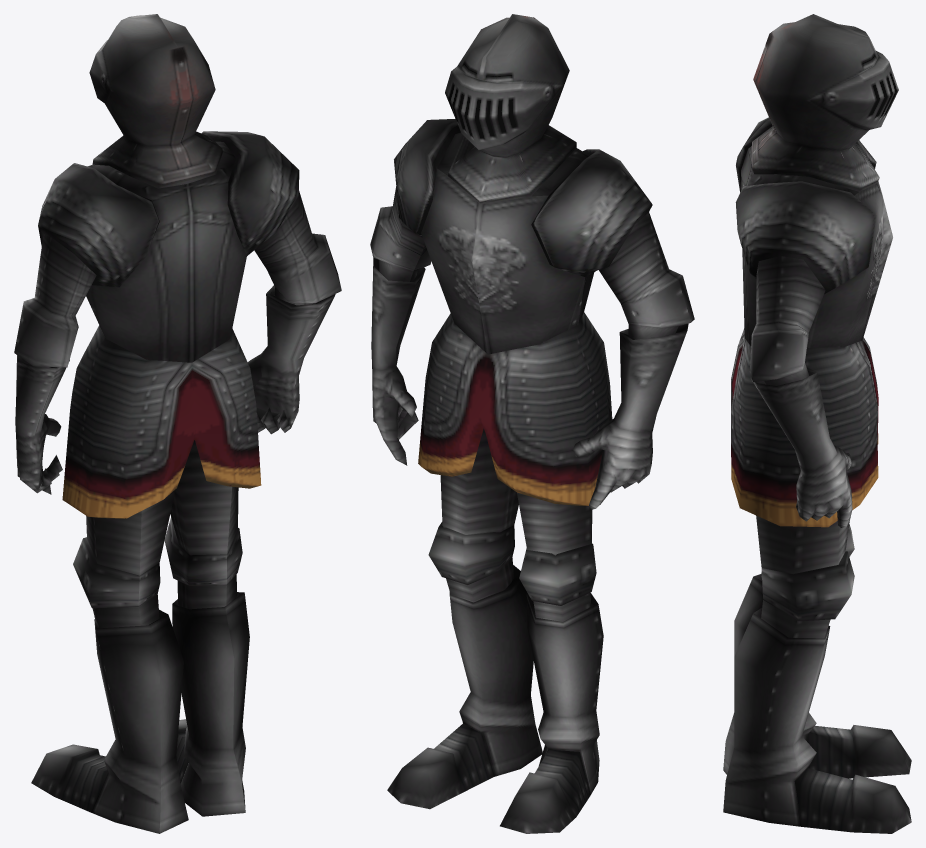
File: SuitOfArmour.obj
3 views of the same model, side by side, from view 1: azimuth 30°, elevation 25°; view 2: azimuth 150°, elevation 25°; view 3: azimuth 270°, elevation 25° (orthographic).
Visible parts, largest first — view 1: material_1, None; view 2: material_1, None; view 3: material_1, None.
Boxes of the visible parts, x1,y1,x2,y2 form: material_1: (14,131,341,833); None: (86,14,246,362); material_1: (370,118,694,833); None: (437,14,594,323); material_1: (723,117,911,833); None: (741,14,898,345).
Bounding box in the file's own units: 94.37 × 216 × 47.51.
1 material, 1 textured.
